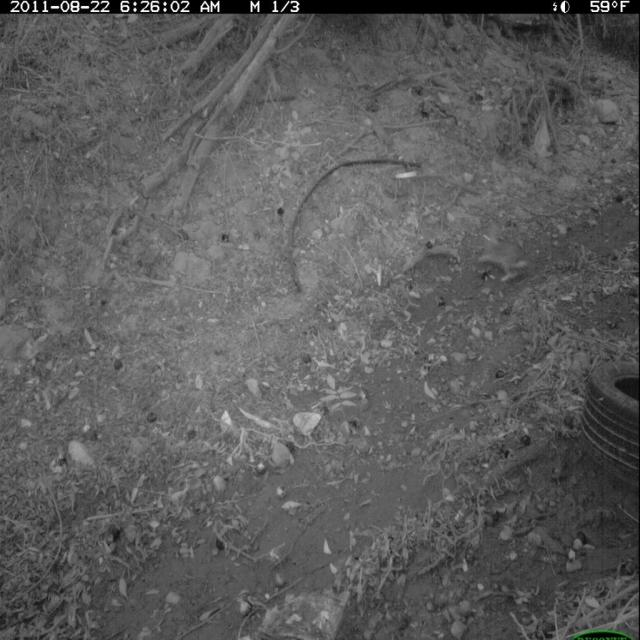rabbit: (477, 218, 533, 292)
